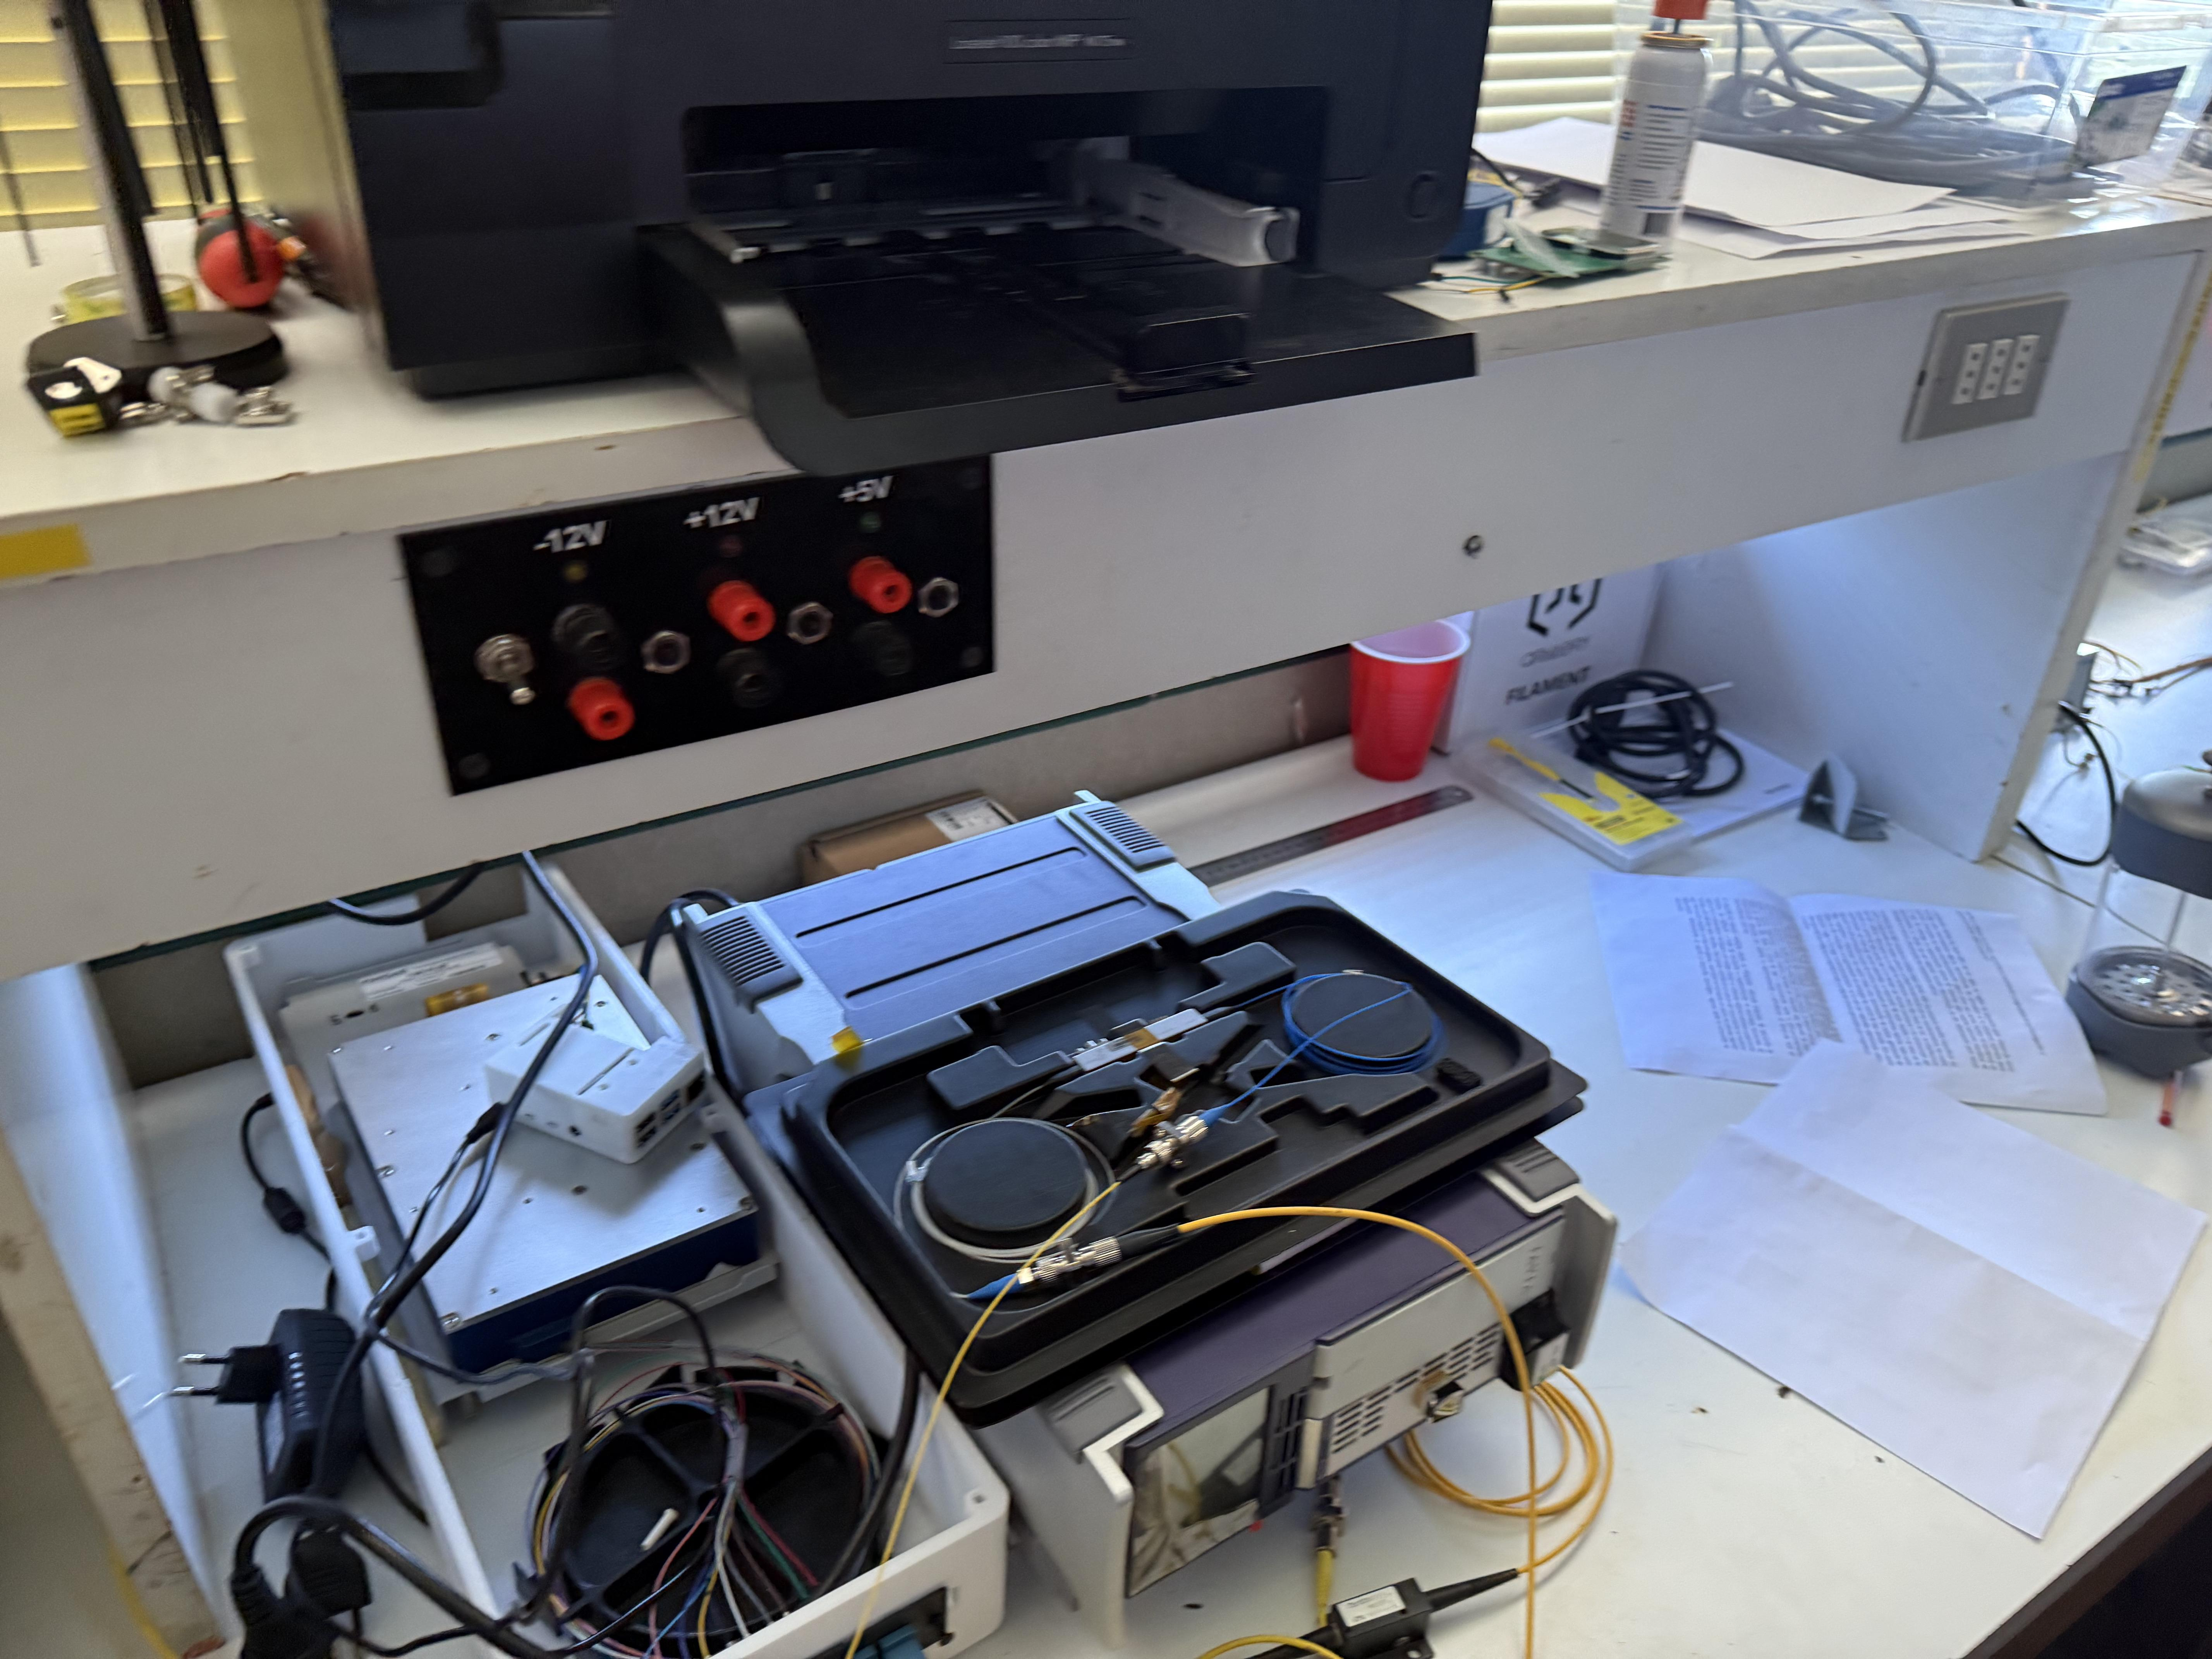laser: (599, 793, 1656, 1622)
